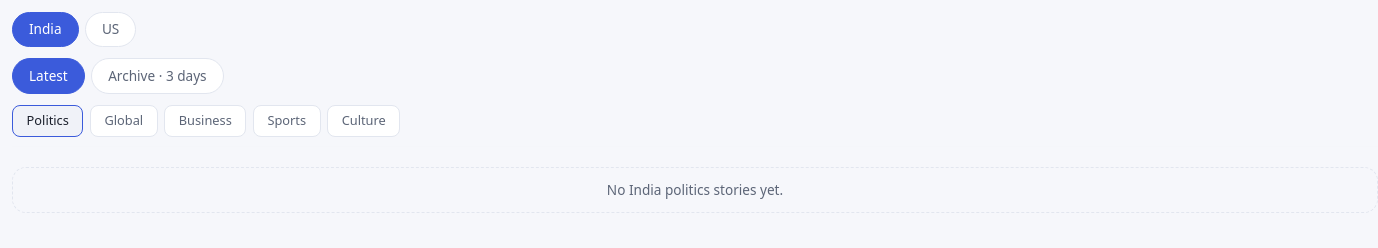
Test: StoriesFeed — country toggle › switches to US stories when the US tab is clicked
The image size is (1378, 248).
Click the tab "Business".
click(205, 121)  # box [164, 105, 246, 137]
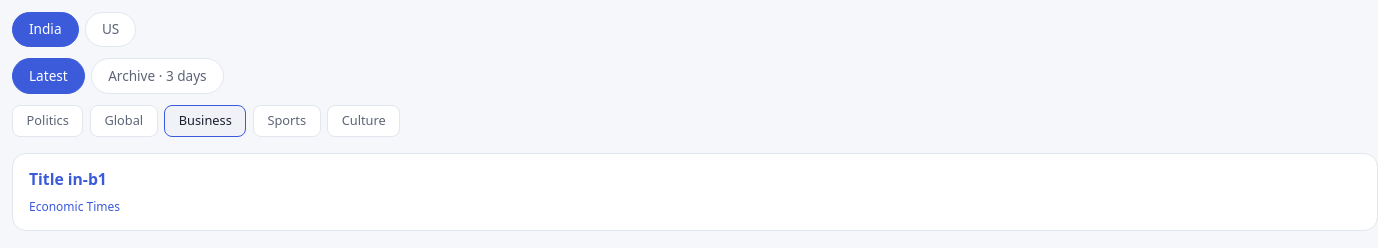
Click the tab "US".
click(111, 30)  # box [85, 12, 136, 47]
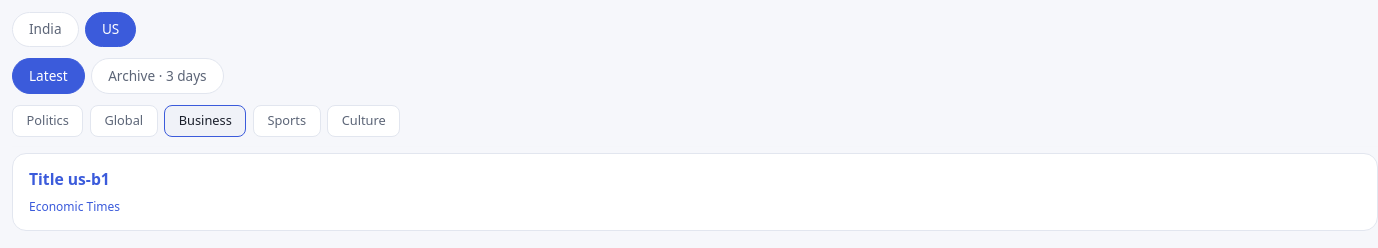
Expected: the link "Title us-b1" is shown, [29, 168, 110, 190]
Expected: the link "Title in-b1" is gone
